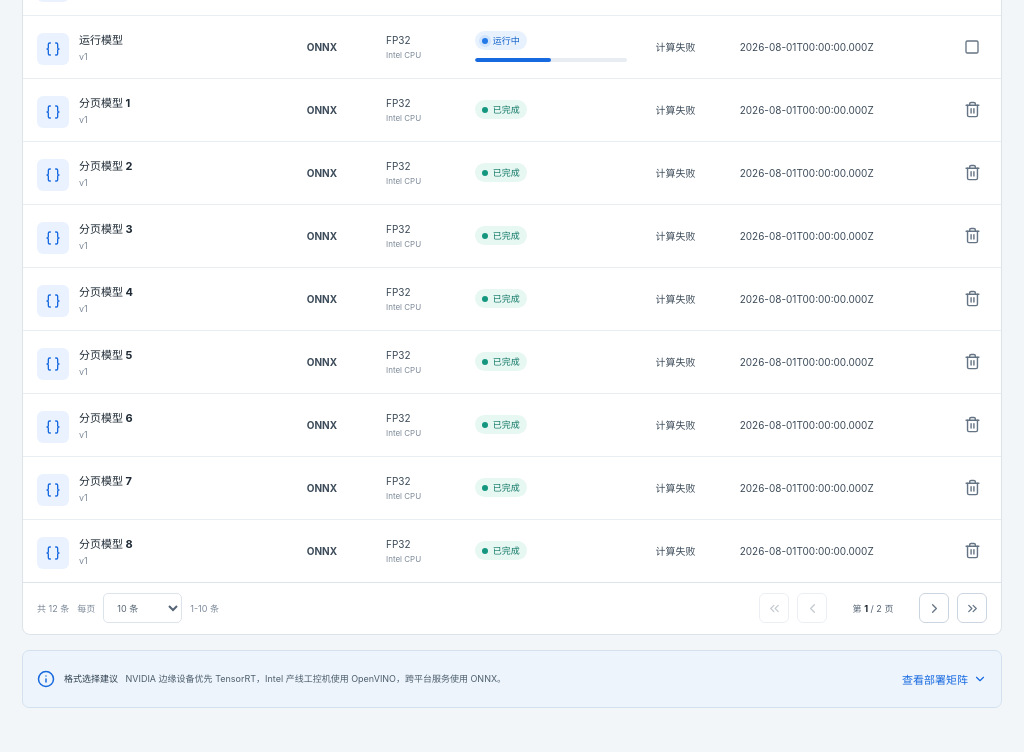
Scenario: ConversionsPage task list › paginates conversion tasks with 10, 20, and 50 item options
(page scrolled)
Expected: the dropdown named "每页显示条数" shows "10 条", [103,593,182,623]
Expected: the text "分页模型 9" is not shown
Click the button named "下一页" at (934, 608), box [919,593,949,623]
(page scrolled)
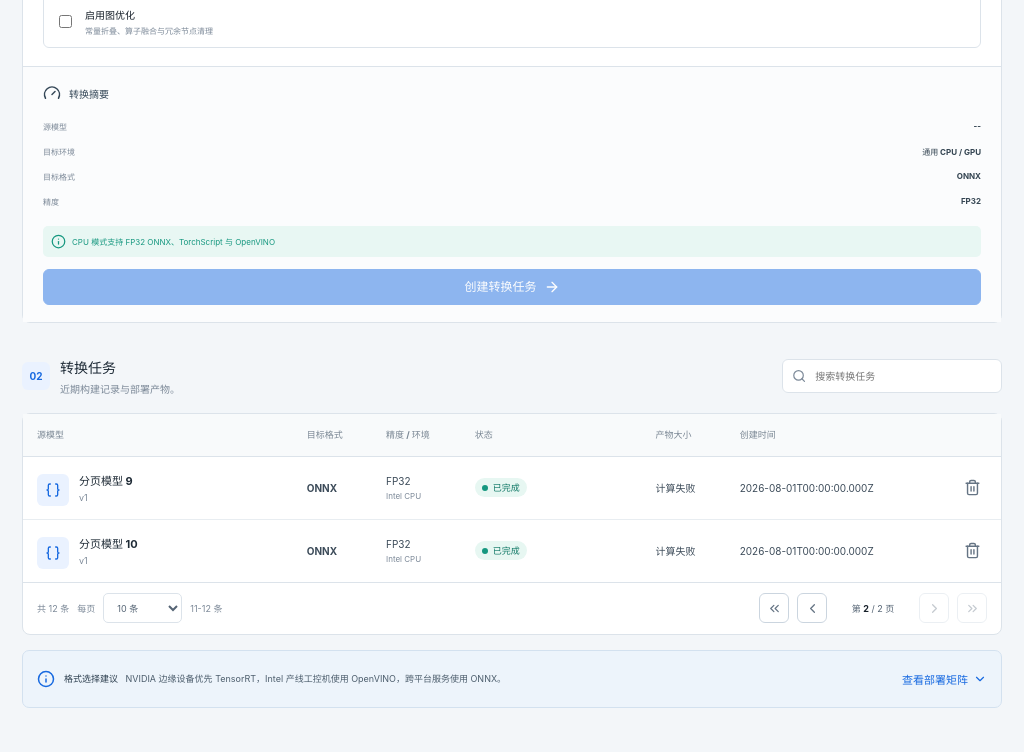
Expected: the text "分页模型 9" is shown, [79,472,133,488]
